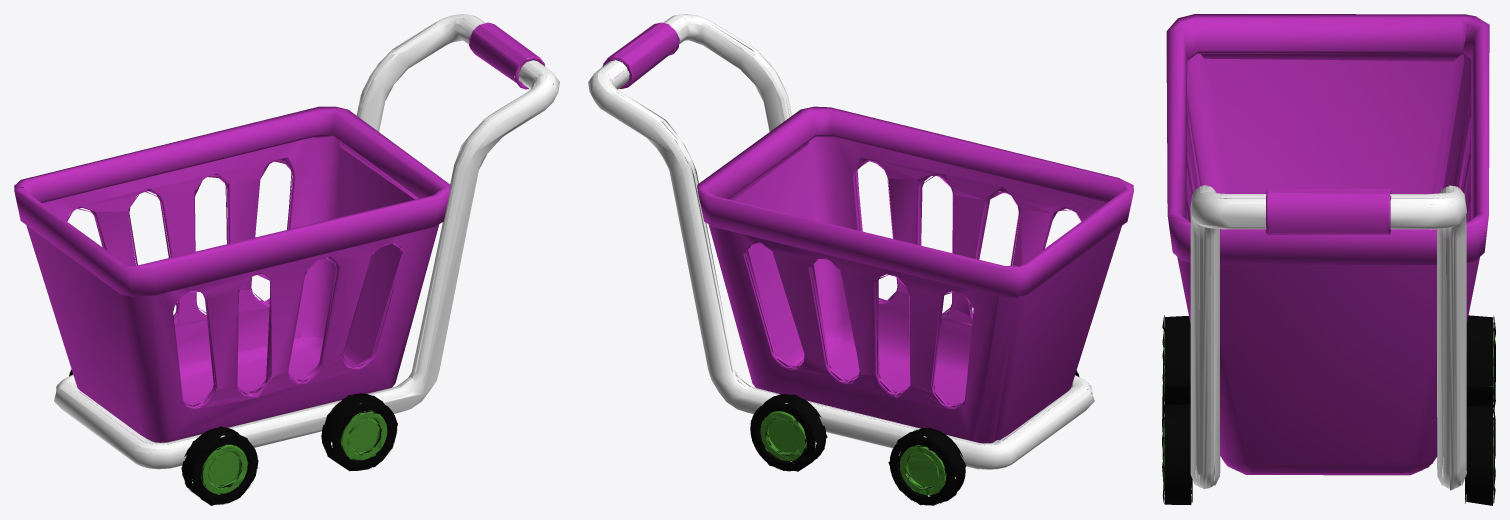
3 renders of one model, left to right at view 1: azimuth 30°, elevation 25°; view 2: azimuth 150°, elevation 25°; view 3: azimuth 270°, elevation 25°, orthographic. The views are drawn at different scales.
Visible parts, largest first — view 1: Object_4; view 2: Object_4; view 3: Object_4.
Part boxes in pixels (x1,y1,x2,y2): Object_4: [14, 14, 559, 505]; Object_4: [588, 14, 1133, 505]; Object_4: [1162, 14, 1495, 505].
Bounding box in the file's own units: 76.04 × 53.28 × 36.59.
